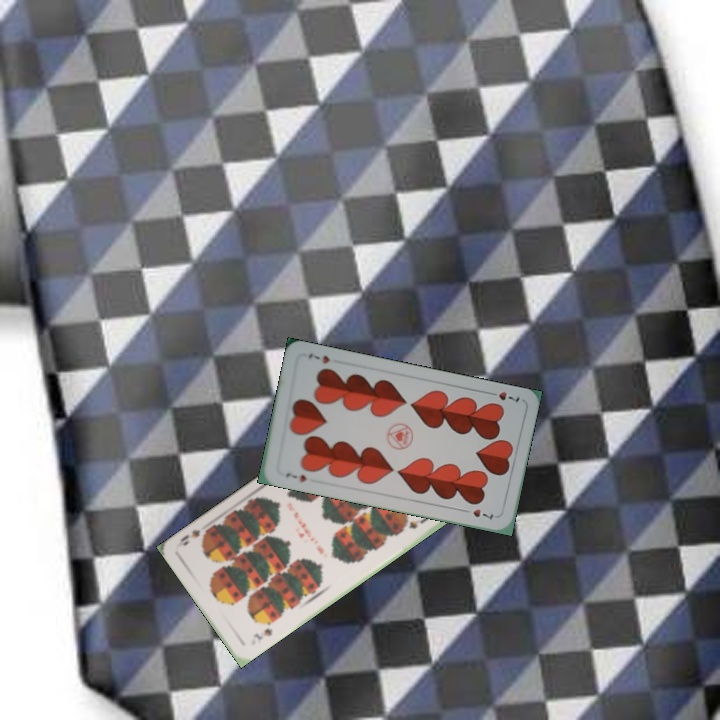H7: (484, 387, 522, 405), (282, 468, 309, 485)
S9: (249, 624, 275, 643)
